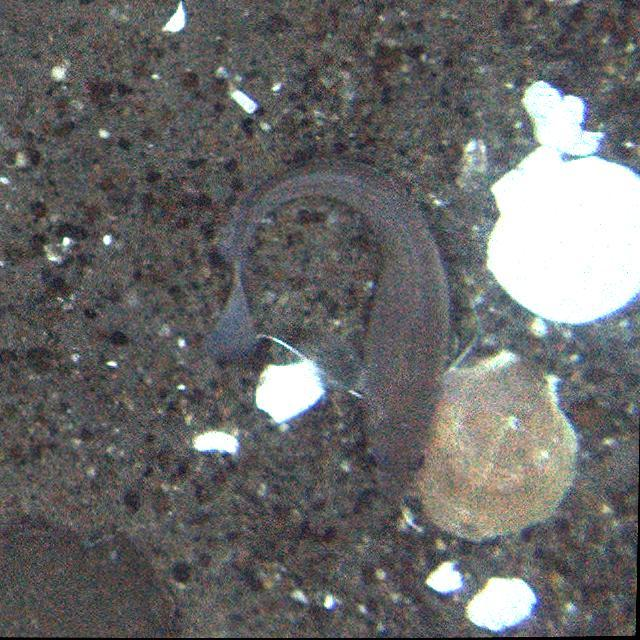roundfish: (206, 153, 443, 502)
